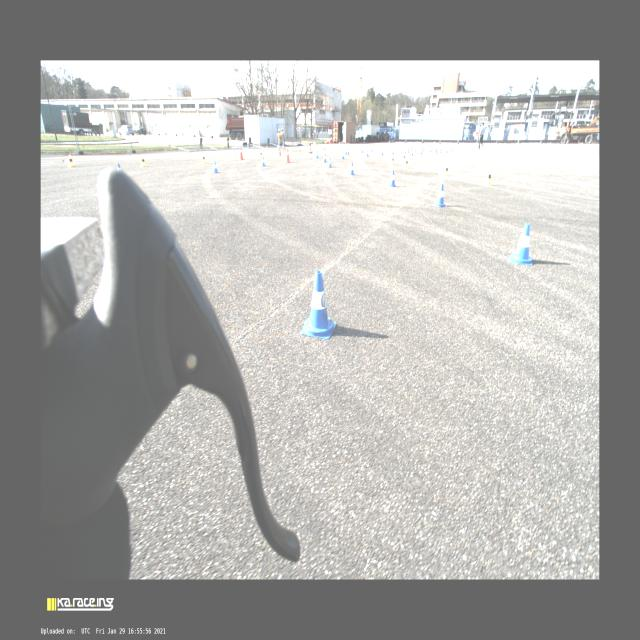blue_cone: (300, 270, 336, 340), (509, 223, 533, 266), (433, 183, 447, 207), (388, 170, 396, 187), (348, 163, 354, 175), (212, 161, 218, 173), (327, 157, 332, 168), (261, 156, 266, 166), (322, 154, 328, 162), (314, 150, 318, 158), (340, 151, 344, 159), (366, 149, 369, 157), (381, 148, 384, 156), (118, 163, 121, 171), (347, 148, 349, 154), (370, 146, 372, 152), (392, 148, 394, 154), (404, 148, 406, 154), (345, 149, 347, 154), (362, 147, 364, 152)
large_orange_cone: (285, 148, 291, 163), (238, 146, 244, 160)
yellow_cone: (483, 168, 492, 186), (68, 155, 76, 167), (442, 164, 448, 176), (140, 155, 146, 167), (200, 154, 207, 164), (389, 155, 395, 165), (404, 158, 408, 168), (259, 151, 262, 158), (402, 154, 404, 162), (411, 152, 413, 158), (420, 150, 422, 156), (429, 149, 431, 155), (298, 148, 300, 154), (322, 146, 324, 152), (324, 146, 326, 152), (340, 146, 342, 150)
